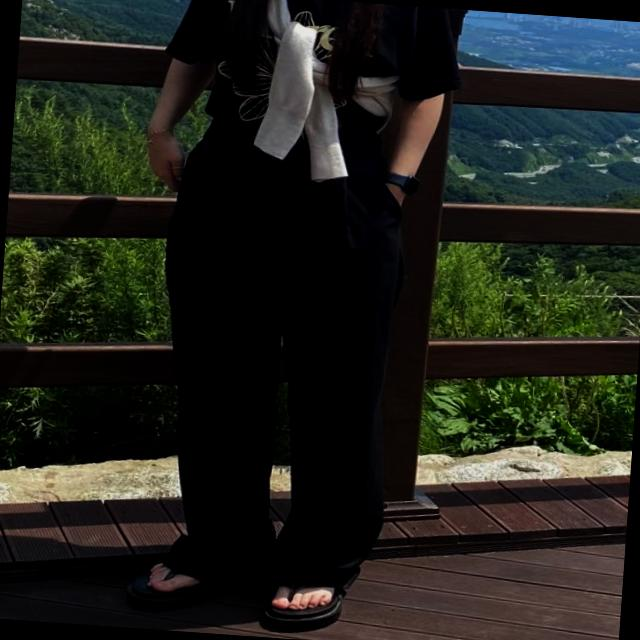shortsleeve: (153, 0, 463, 152)
slacks: (139, 132, 413, 594)
